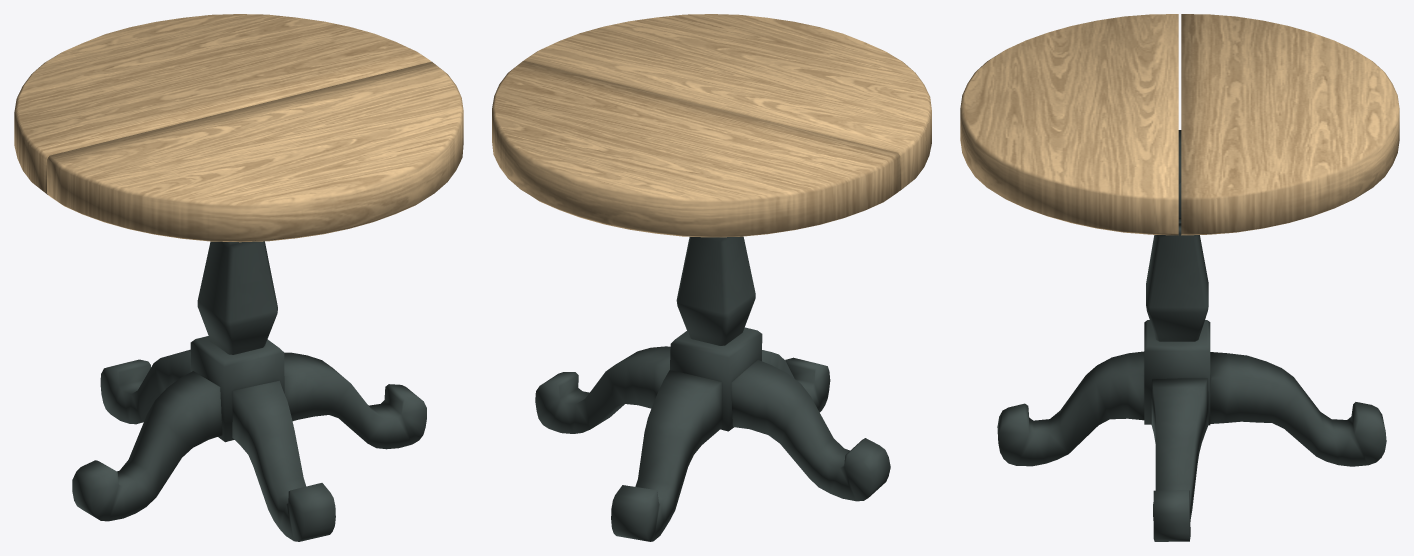
The model's file is round-cafe-table.glb.
3 renders of one model, left to right at view 1: azimuth 30°, elevation 25°; view 2: azimuth 150°, elevation 25°; view 3: azimuth 270°, elevation 25°, orthographic. The views are drawn at different scales.
Parts seen in each view (by area): view 1: round-cafe-table; view 2: round-cafe-table; view 3: round-cafe-table.
Part boxes in pixels (x1,y1,x2,y2): round-cafe-table: (14, 14, 463, 541); round-cafe-table: (492, 14, 931, 541); round-cafe-table: (960, 14, 1399, 541).
Size of the model in its own units: 0.998 by 0.9082 by 0.998.
1 material, 1 textured.
